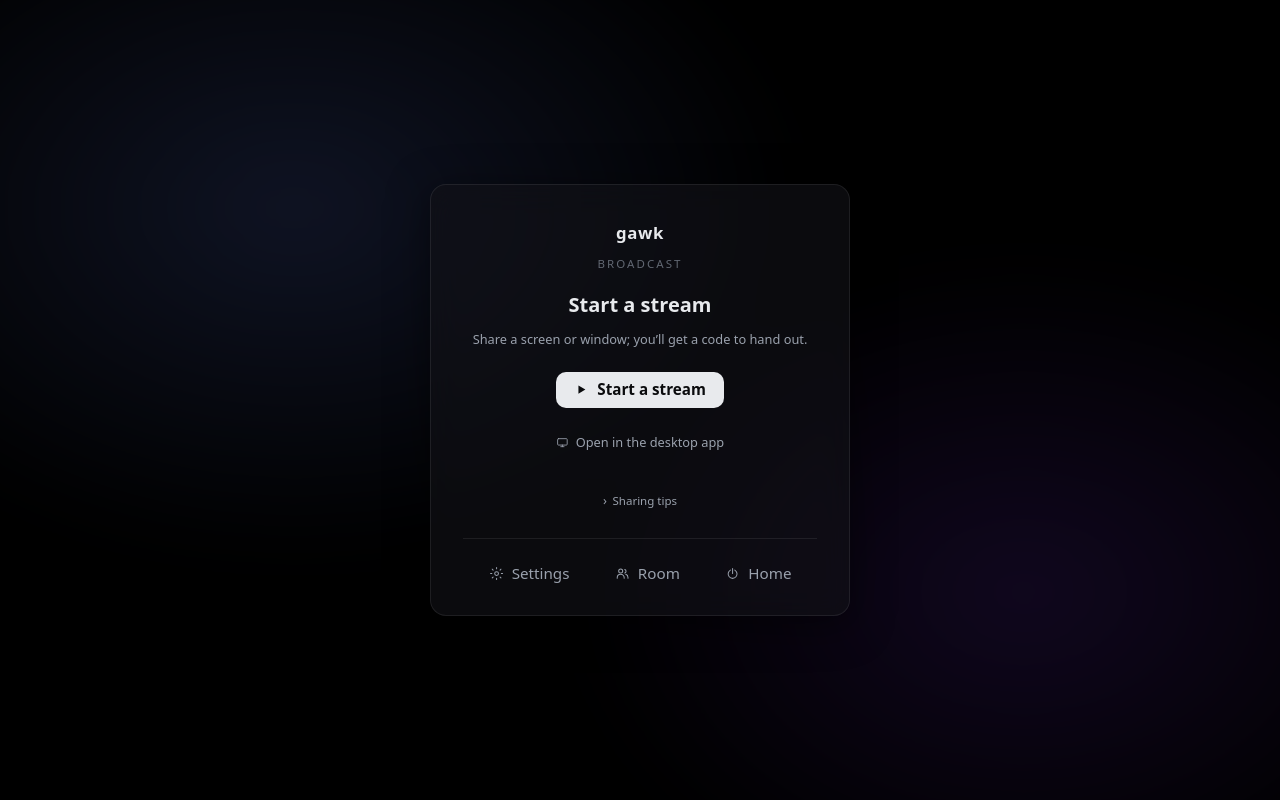
BroadcasterScreen start failure after capture › mint path: shows the error card, not a dead LIVE stage
Click the button "Start a stream". click: (640, 390)
box: left=556, top=372, right=724, bottom=408
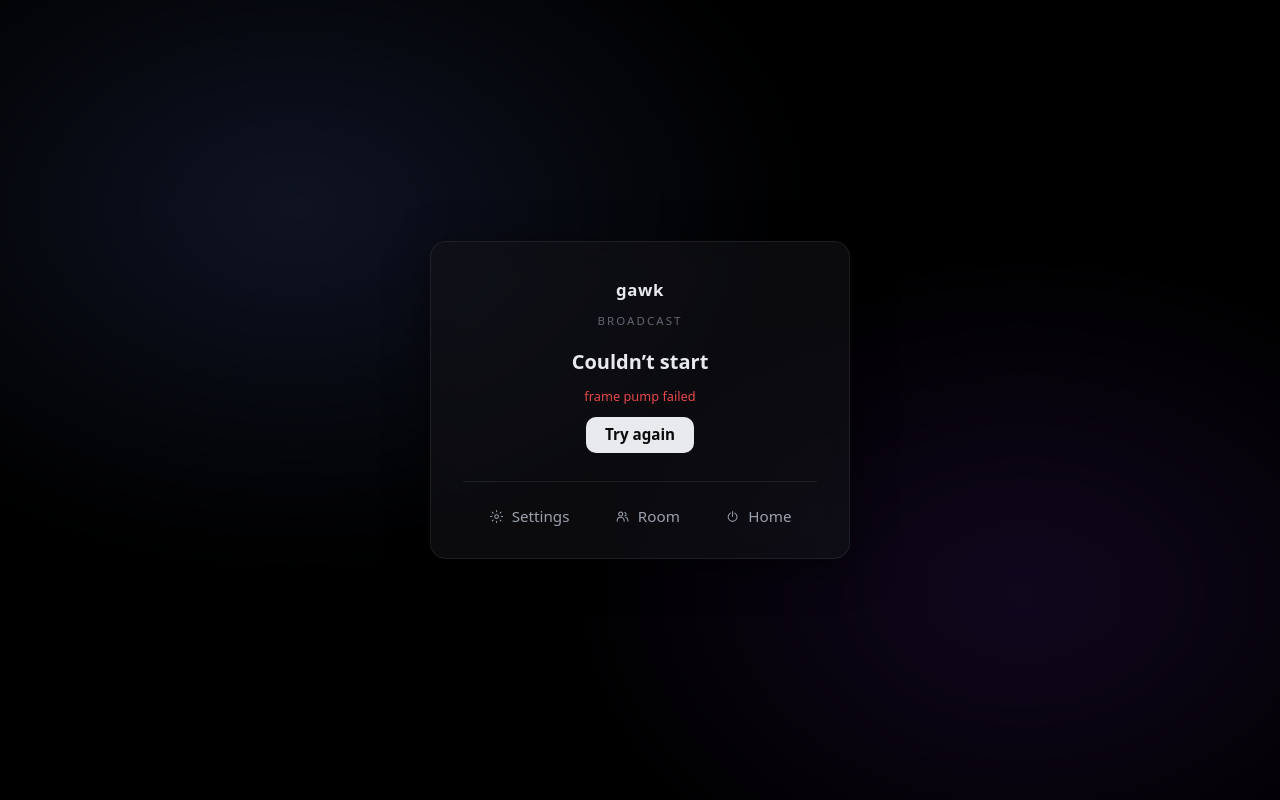
Expected: the heading "Couldn’t start" is shown, left=572, top=348, right=708, bottom=375
Expected: the text "frame pump failed" is shown, left=584, top=387, right=696, bottom=405
Expected: the button "Try again" is shown, left=586, top=417, right=694, bottom=453
